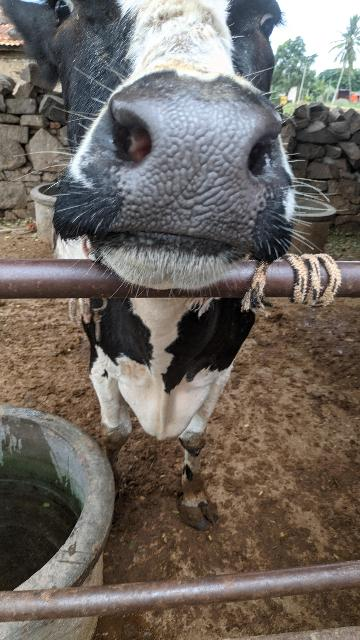Muzzle: (112, 92, 272, 258)
